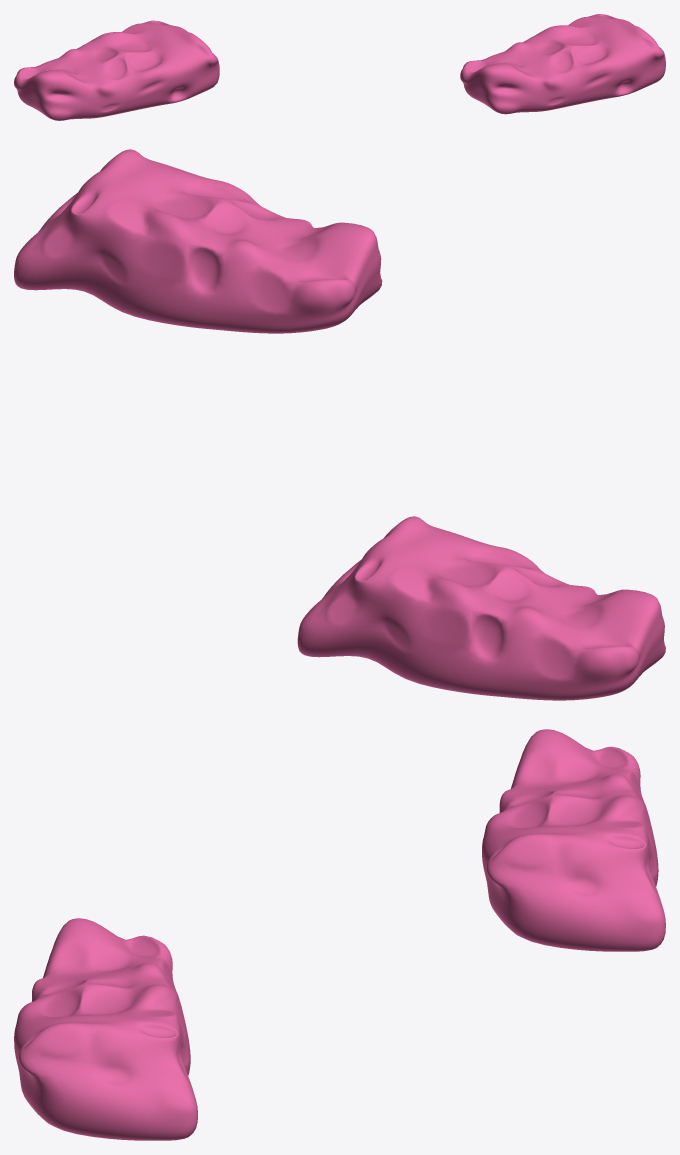
Rendered from Gum.fbx.
3 renders of one model, top to bottom at view 1: azimuth 30°, elevation 25°; view 2: azimuth 150°, elevation 25°; view 3: azimuth 270°, elevation 25°, orthographic. The views are drawn at different scales.
Visible parts, largest first — view 1: Cube.001, Cube; view 2: Cube, Cube.001; view 3: Cube, Cube.001.
Part boxes in pixels (left/top/right/bottom): Cube.001: left=460, top=14, right=665, bottom=114; Cube: left=14, top=20, right=219, bottom=120; Cube: left=297, top=516, right=665, bottom=700; Cube.001: left=14, top=149, right=382, bottom=333; Cube: left=482, top=729, right=665, bottom=951; Cube.001: left=14, top=918, right=197, bottom=1140.
Size of the model in its own units: 1934 by 364 by 1341.
